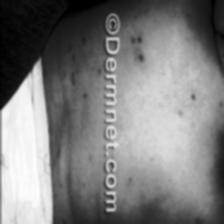Toxin: (65, 24, 89, 96), (128, 34, 144, 70), (187, 90, 197, 114)
